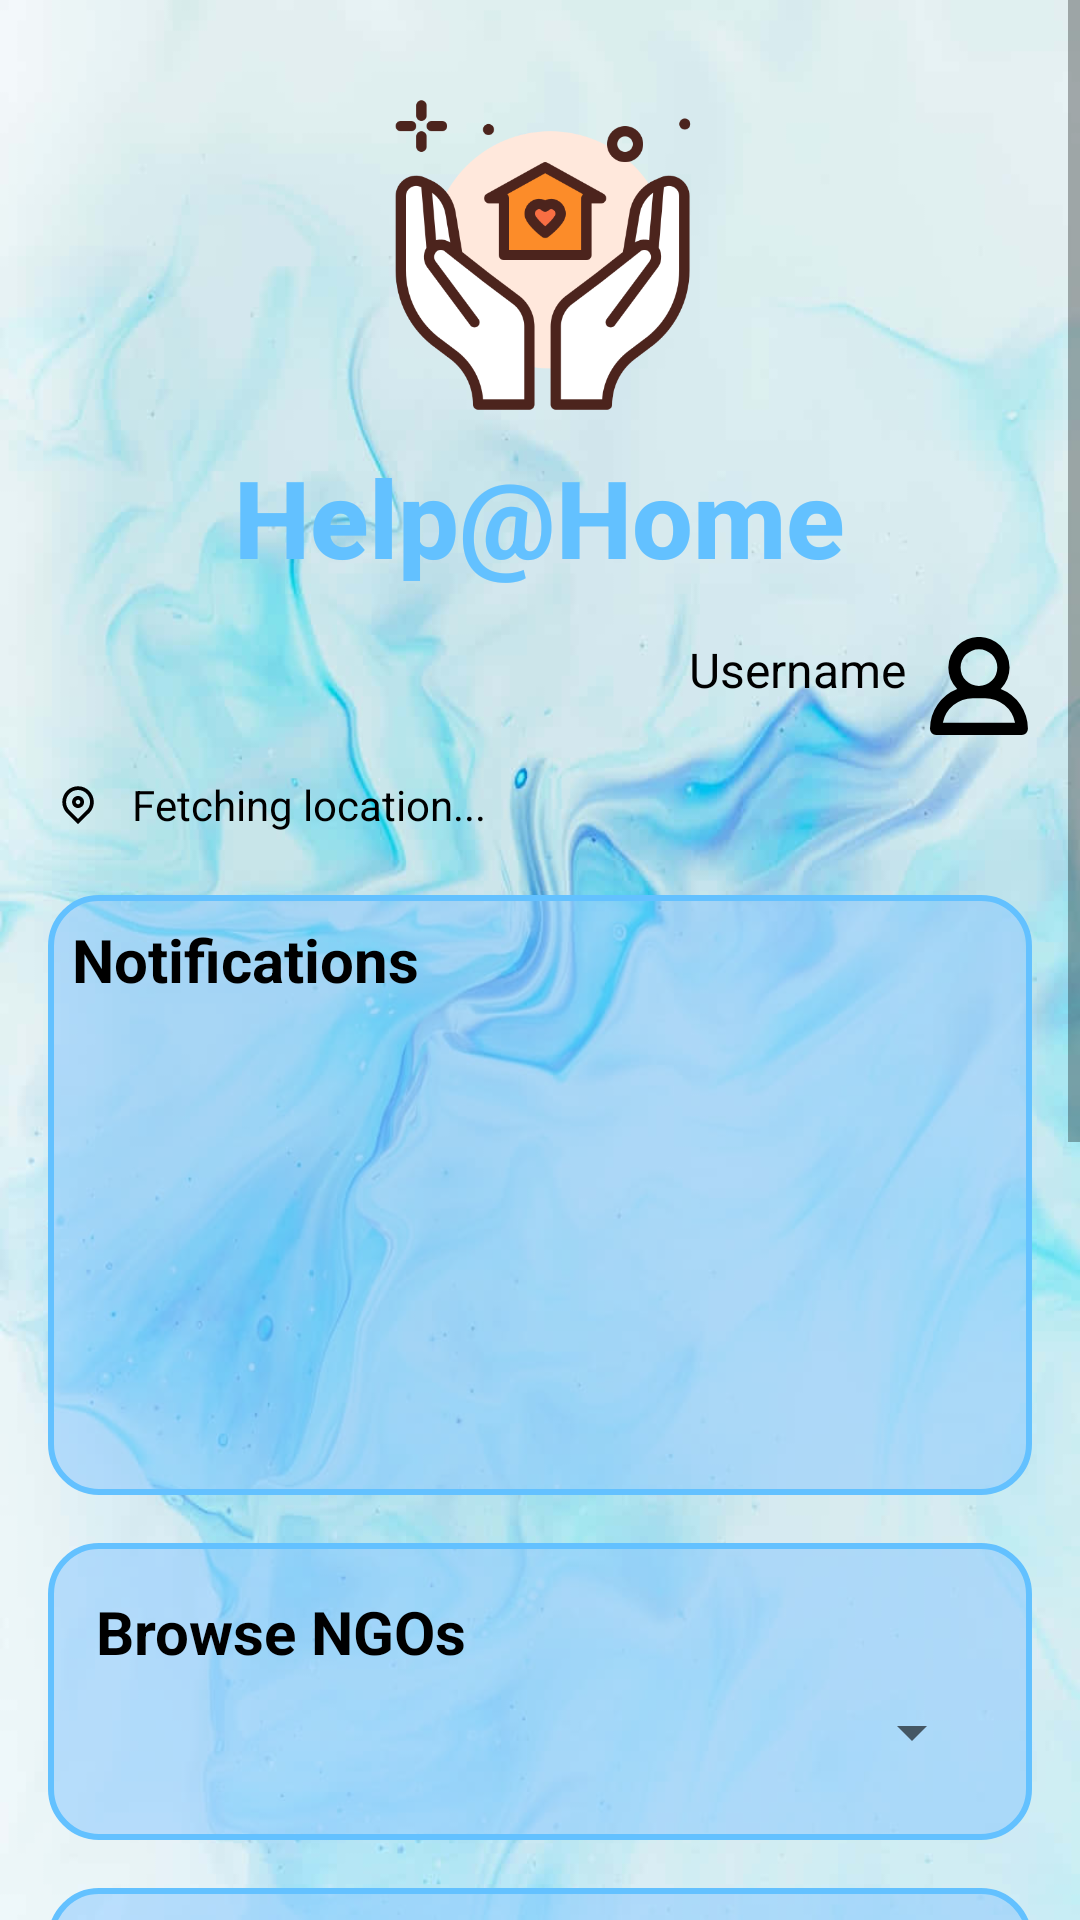

Point at icon controls on the screen. Image size 1080px x 1920px, points as (x,y).
Profile: (979,688)
